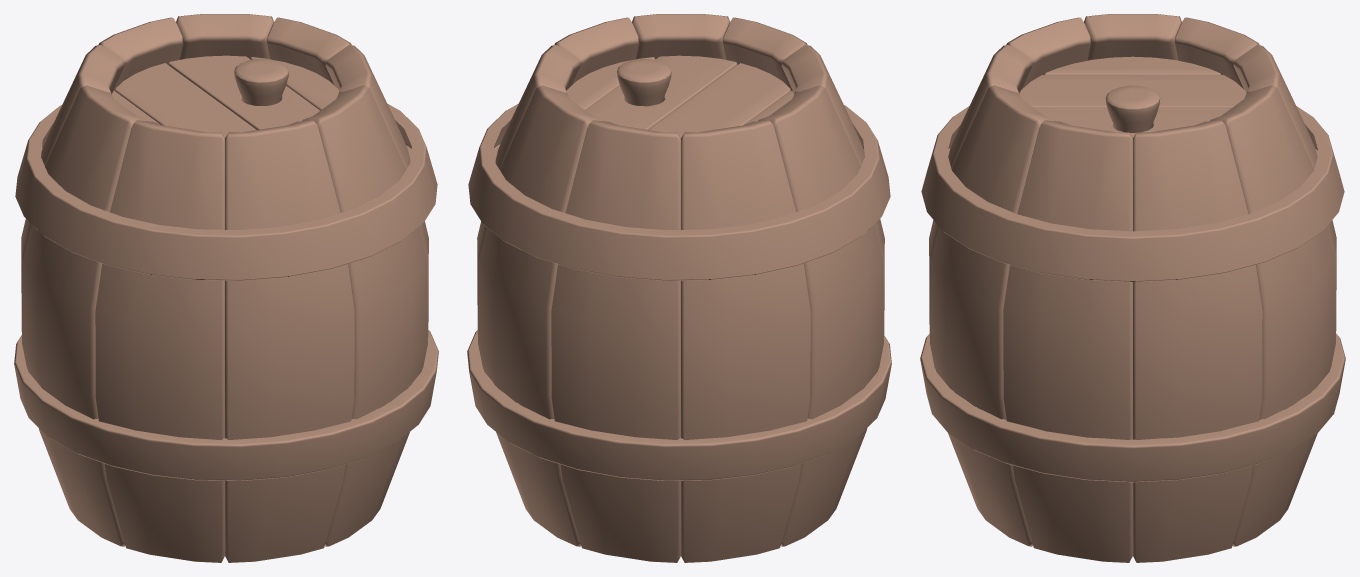
The model's file is HalloweenRoomA_BarrelA.fbx.
3 views of the same model, side by side, from view 1: azimuth 30°, elevation 25°; view 2: azimuth 150°, elevation 25°; view 3: azimuth 270°, elevation 25° (orthographic).
Parts seen in each view (by area): view 1: HalloweenRoomA_BarrelA; view 2: HalloweenRoomA_BarrelA; view 3: HalloweenRoomA_BarrelA.
Boxes of the visible parts, x1,y1,x2,y2 form: HalloweenRoomA_BarrelA: [14, 14, 438, 562]; HalloweenRoomA_BarrelA: [467, 14, 891, 562]; HalloweenRoomA_BarrelA: [920, 14, 1345, 562].
Bounding box in the file's own units: 57.37 × 63.21 × 57.37.
